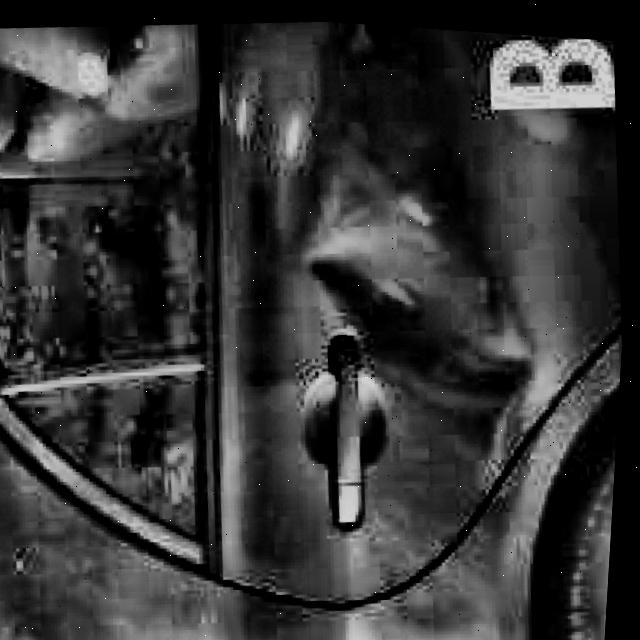door_dent: (290, 219, 535, 418)
